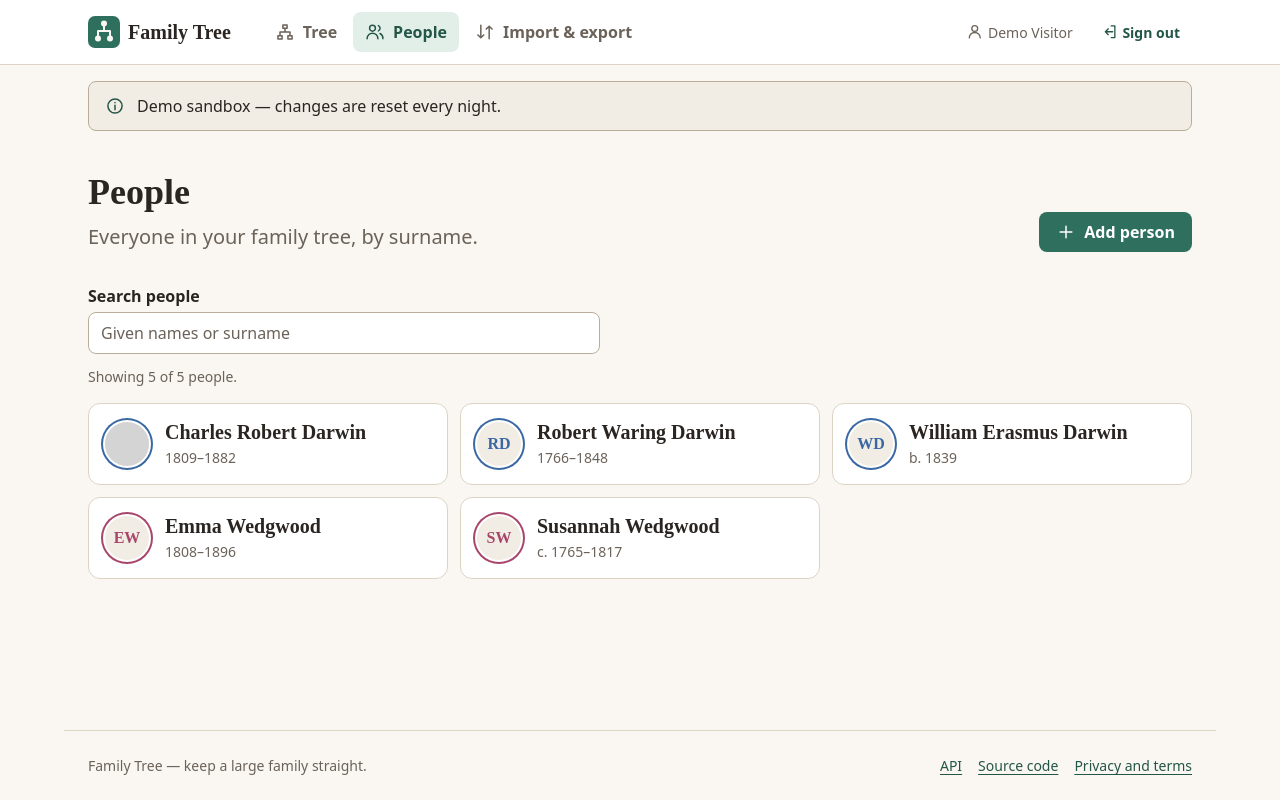
Test: searching filters the list and keeps the search in the address
Expected: the link "Charles Robert Darwin 1809–1882" is shown, [88,403,448,485]
Type "wedg" into the search field labelled "Search people".
click(344, 333); type("wedg")  # box [88,312,600,354]
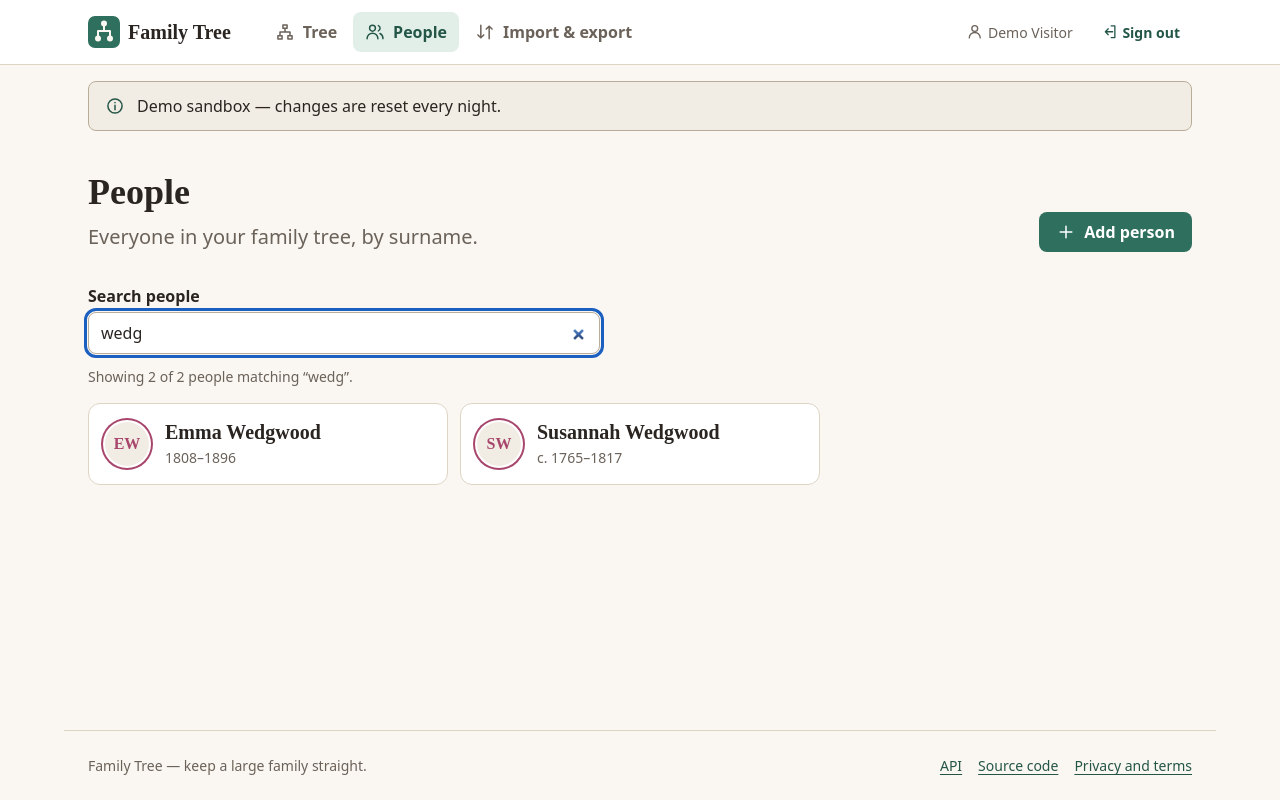
Now the text "Showing 2 of 2 people matching “wedg”." is shown, box [88,367,353,386]
